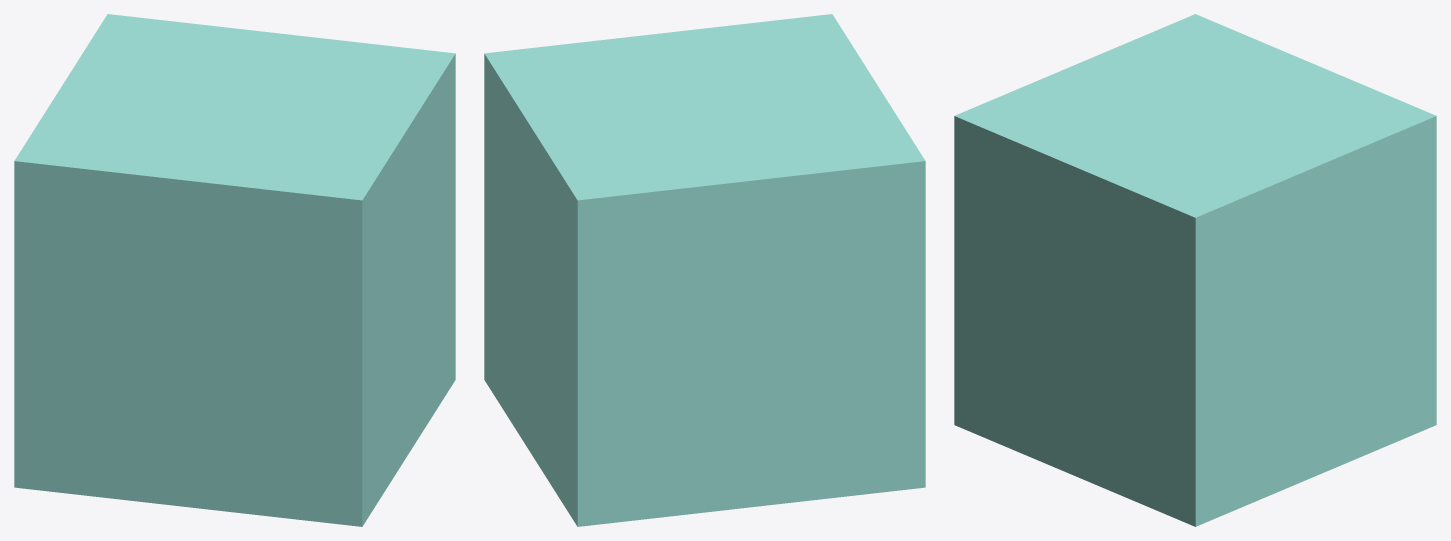
Rendered from cube-embedded.gltf.
3 renders of one model, left to right at view 1: azimuth 30°, elevation 25°; view 2: azimuth 150°, elevation 25°; view 3: azimuth 270°, elevation 25°, orthographic. The views are drawn at different scales.
Visible parts, largest first — view 1: Embedded cube; view 2: Embedded cube; view 3: Embedded cube.
Part boxes in pixels (box(x1,y1,x2,y2)): Embedded cube: box(14, 14, 455, 526); Embedded cube: box(484, 14, 925, 526); Embedded cube: box(954, 14, 1436, 526).
Bounding box in the file's own units: 2.83 × 2 × 2.83.
